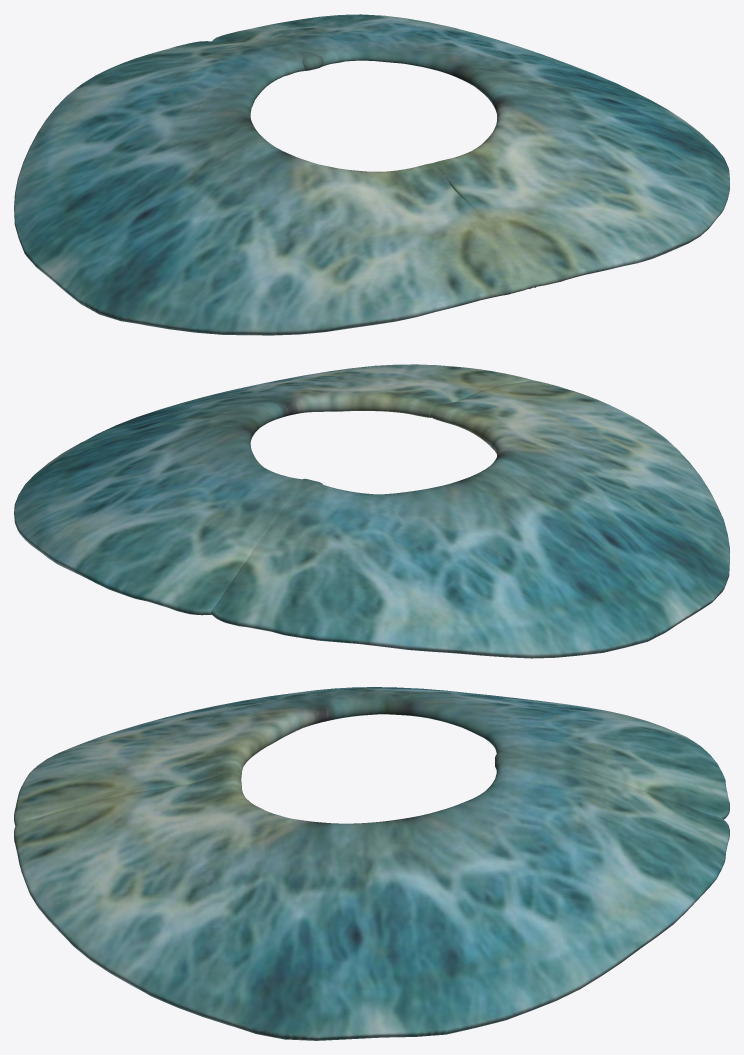
3 views of the same model, one above another, from view 1: azimuth 30°, elevation 25°; view 2: azimuth 150°, elevation 25°; view 3: azimuth 270°, elevation 25° (orthographic). The views are drawn at different scales.
Visible parts, largest first — view 1: e-虹膜; view 2: e-虹膜; view 3: e-虹膜.
Part boxes in pixels (x1=…): e-虹膜: x1=14, y1=14, x2=729, y2=335; e-虹膜: x1=14, y1=364, x2=729, y2=658; e-虹膜: x1=14, y1=687, x2=729, y2=1040.
Size of the model in its own units: 0.3397 by 0.0553 by 0.3026.
